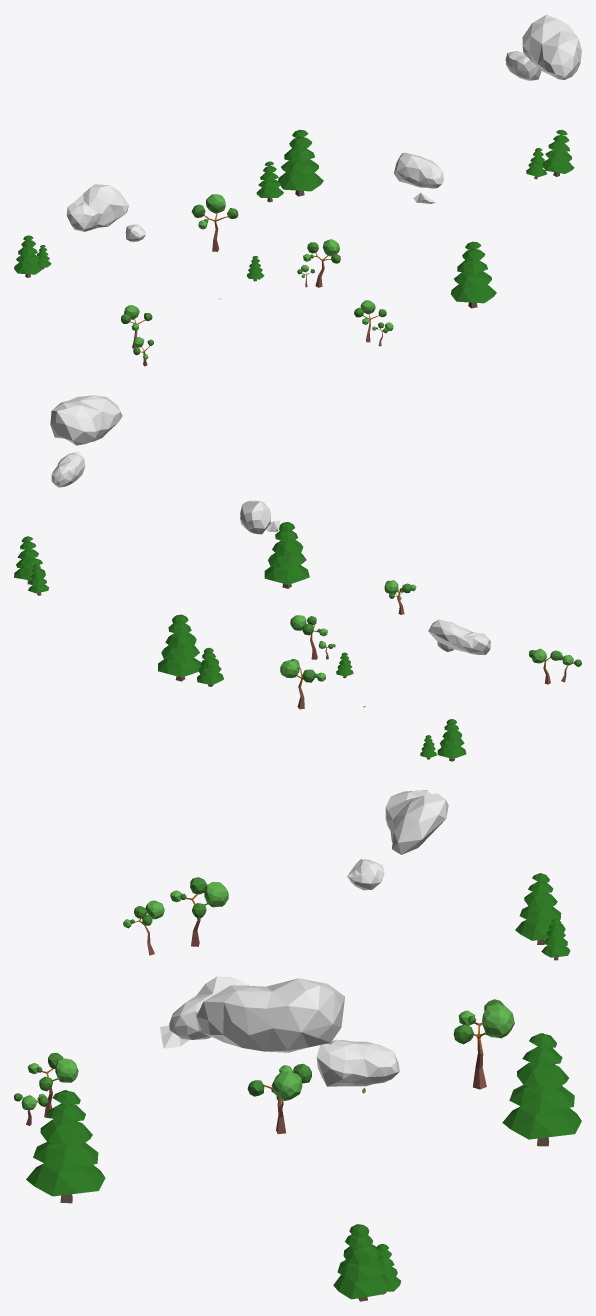
Rendered from central-decor.glb.
3 views of the same model, one above another, from view 1: azimuth 30°, elevation 25°; view 2: azimuth 150°, elevation 25°; view 3: azimuth 270°, elevation 25° (orthographic). The views are drawn at different scales.
Parts seen in each view (by area): view 1: Icosphere.001, Icosphere.006, Plane.005, Plane.001, Icosphere.004, Plane.003, Cube.003, Plane.013, Icosphere.002, Cube.005, Plane.002, Cube.001; view 2: Icosphere.001, Plane.005, Plane.001, Icosphere.006, Icosphere.004, Icosphere.002, Plane.003, Plane.013, Cube.003, Plane.002, Cube.005; view 3: Icosphere.001, Plane.001, Plane.005, Icosphere.002, Icosphere.006, Plane.003, Cube.003, Plane.013, Icosphere.004, Cube.005, Cube, Cube.001 (+3 smaller).
Part boxes in pixels (x1,y1,x2,y2): Icosphere.001: (522,14,581,79); Icosphere.006: (66,184,128,231); Plane.005: (451,241,496,308); Plane.001: (278,129,323,196); Icosphere.004: (394,152,443,188); Plane.003: (542,130,574,176); Cube.003: (191,194,238,251); Plane.013: (14,235,42,277); Icosphere.002: (505,51,541,80); Cube.005: (303,239,340,287); Plane.002: (256,161,283,202); Cube.001: (354,300,386,342); Icosphere.001: (50,395,122,445); Plane.005: (264,522,309,588); Plane.001: (158,614,201,681); Icosphere.006: (428,619,490,654); Icosphere.004: (240,500,270,534); Icosphere.002: (51,451,85,487); Plane.003: (14,536,45,584); Plane.013: (437,719,466,761); Cube.003: (280,659,325,709); Plane.002: (197,647,223,686); Cube.005: (290,615,327,659); Icosphere.001: (196,978,344,1052); Plane.001: (502,1033,581,1146); Plane.005: (26,1090,105,1203); Icosphere.002: (316,1039,399,1086); Icosphere.006: (385,790,448,854); Plane.003: (333,1224,389,1301); Cube.003: (453,999,514,1089); Plane.013: (515,873,565,944); Icosphere.004: (169,976,248,1039); Cube.005: (247,1063,311,1134); Cube: (170,877,228,946); Cube.001: (27,1053,78,1118).
Size of the model in its own units: 16.99 by 6.96 by 9.77.
